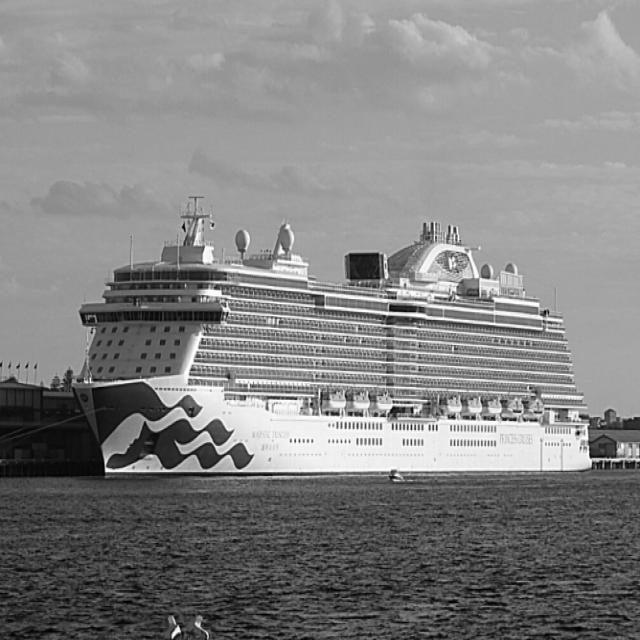cruises: (73, 186, 597, 484)
